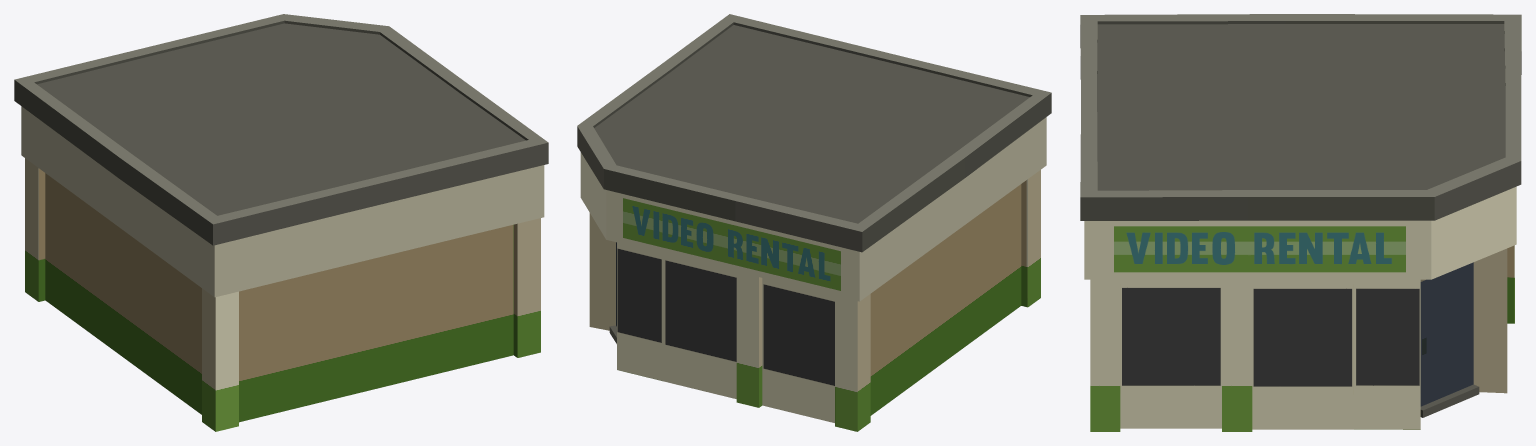
File: store_corner_mesh.fbx
3 renders of one model, left to right at view 1: azimuth 30°, elevation 25°; view 2: azimuth 150°, elevation 25°; view 3: azimuth 270°, elevation 25°, orthographic. The views are drawn at different scales.
Visible parts, largest first — view 1: store_corner_mesh; view 2: store_corner_mesh; view 3: store_corner_mesh.
Part boxes in pixels (x1=…): store_corner_mesh: x1=14, y1=14, x2=548, y2=431; store_corner_mesh: x1=577, y1=14, x2=1051, y2=431; store_corner_mesh: x1=1080, y1=14, x2=1521, y2=431.
Size of the model in its own units: 11.06 by 6.66 by 11.26.
